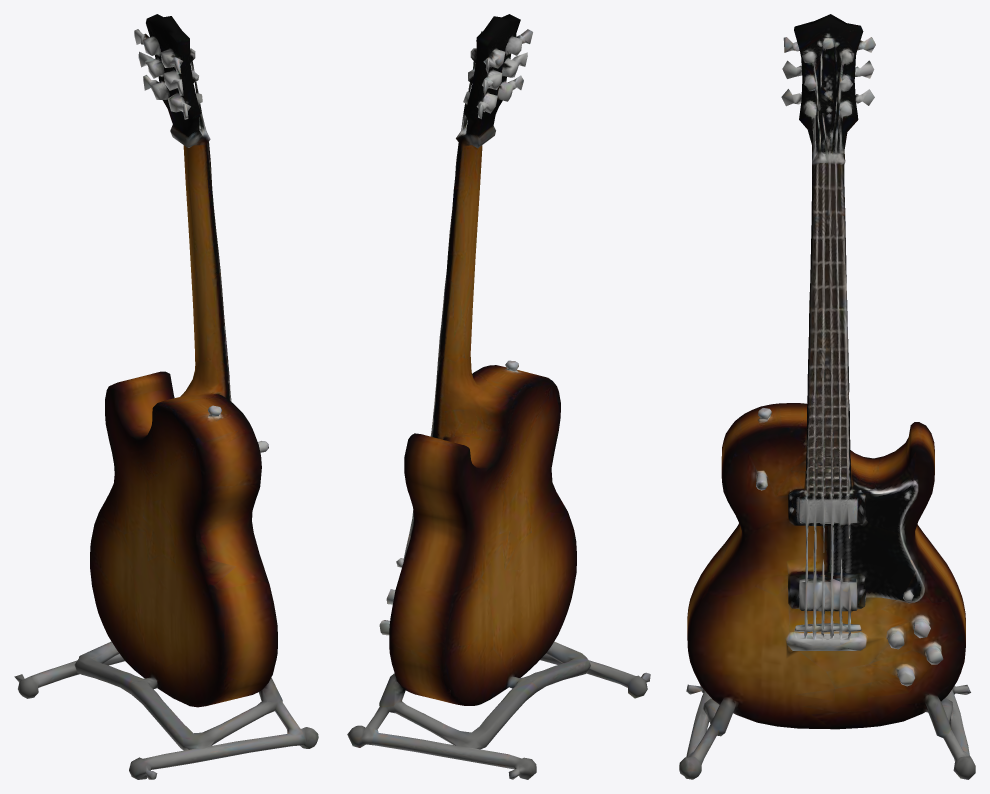
Rendered from electricguitar-v2.glb.
3 renders of one model, left to right at view 1: azimuth 30°, elevation 25°; view 2: azimuth 150°, elevation 25°; view 3: azimuth 270°, elevation 25°, orthographic. The views are drawn at different scales.
Visible parts, largest first — view 1: prop__electricguitar; view 2: prop__electricguitar; view 3: prop__electricguitar.
Boxes of the visible parts, x1,y1,x2,y2 form: prop__electricguitar: [14, 14, 318, 779]; prop__electricguitar: [347, 14, 650, 779]; prop__electricguitar: [679, 14, 975, 779].
Size of the model in its own units: 0.2648 by 1 by 0.3703.
Materials: 1 (1 with a texture image).
